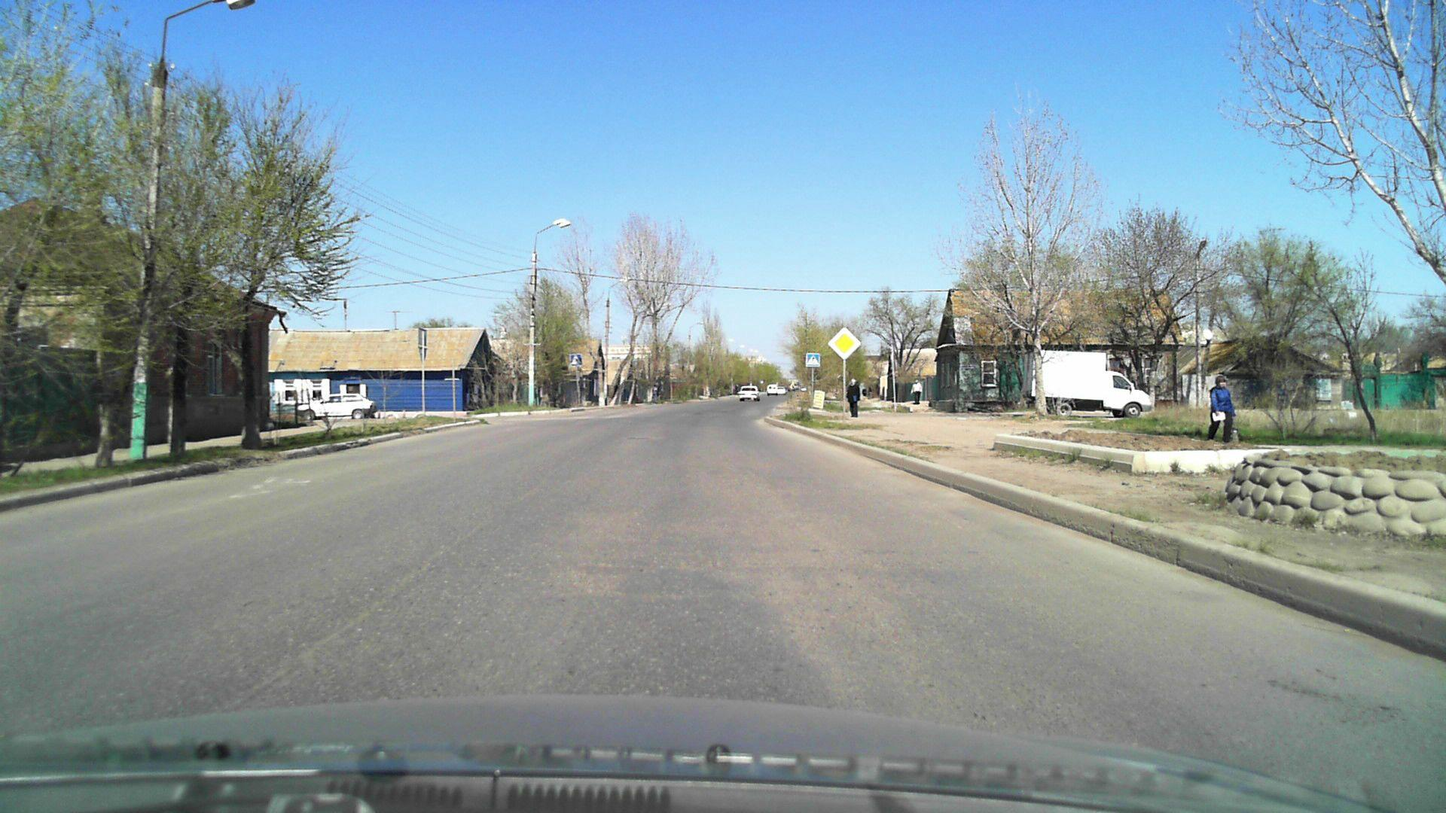road_sign: (828, 327, 862, 360)
